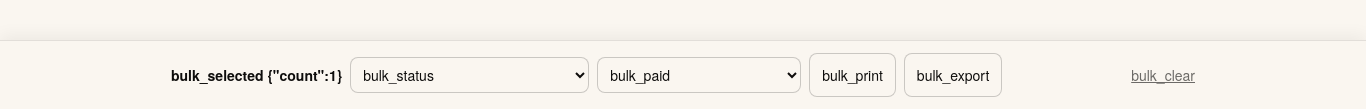
Test: LedgerBulkBar › names the orders that failed
This screenshot has width=1366, height=109.
What coordinates should you click on to do the following:
click the button "bulk_print"
I would click on:
 (852, 75)
Its box is x1=809 y1=53 x2=896 y2=97.
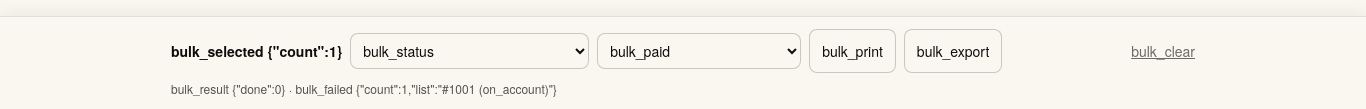
Now the message reads "bulk_result {\"done\":0} · bulk_failed {\"count\":1,\"list\":\"#1001 (on_account)\"}", box x1=171 y1=80 x2=557 y2=97
